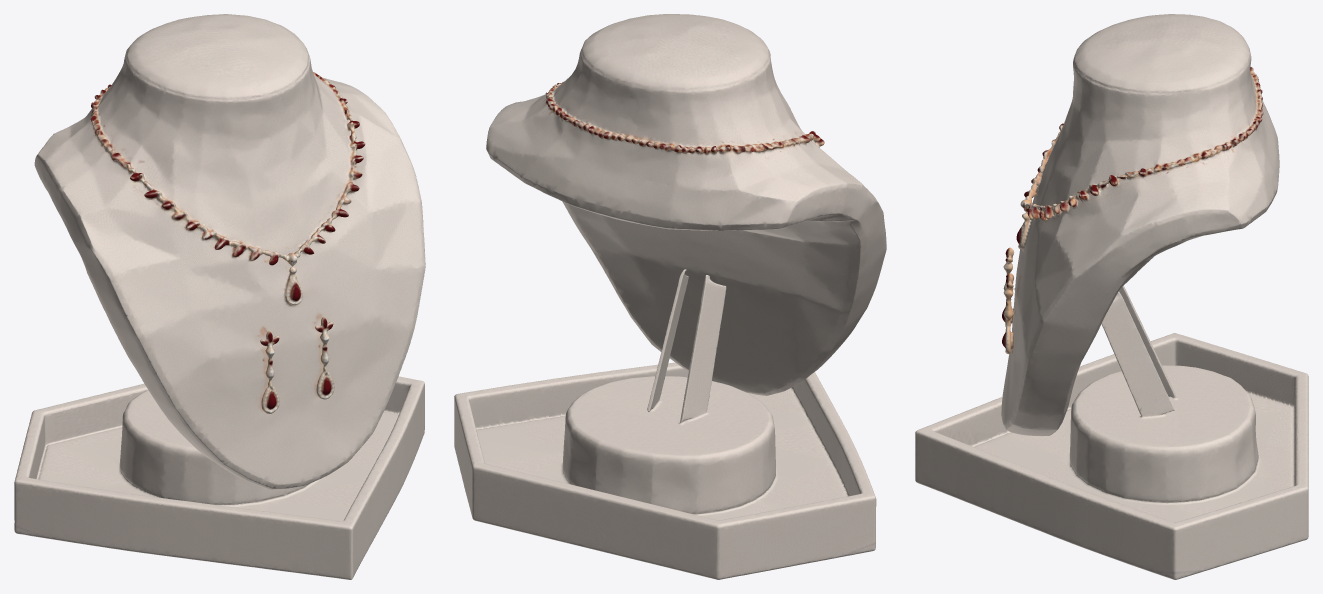
3 renders of one model, left to right at view 1: azimuth 30°, elevation 25°; view 2: azimuth 150°, elevation 25°; view 3: azimuth 270°, elevation 25°, orthographic. The views are drawn at different scales.
Size of the model in its own units: 1.81 by 1.9 by 1.54.
1 material, 1 textured.
